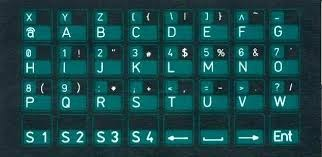keyboard: (22, 8, 302, 149)
